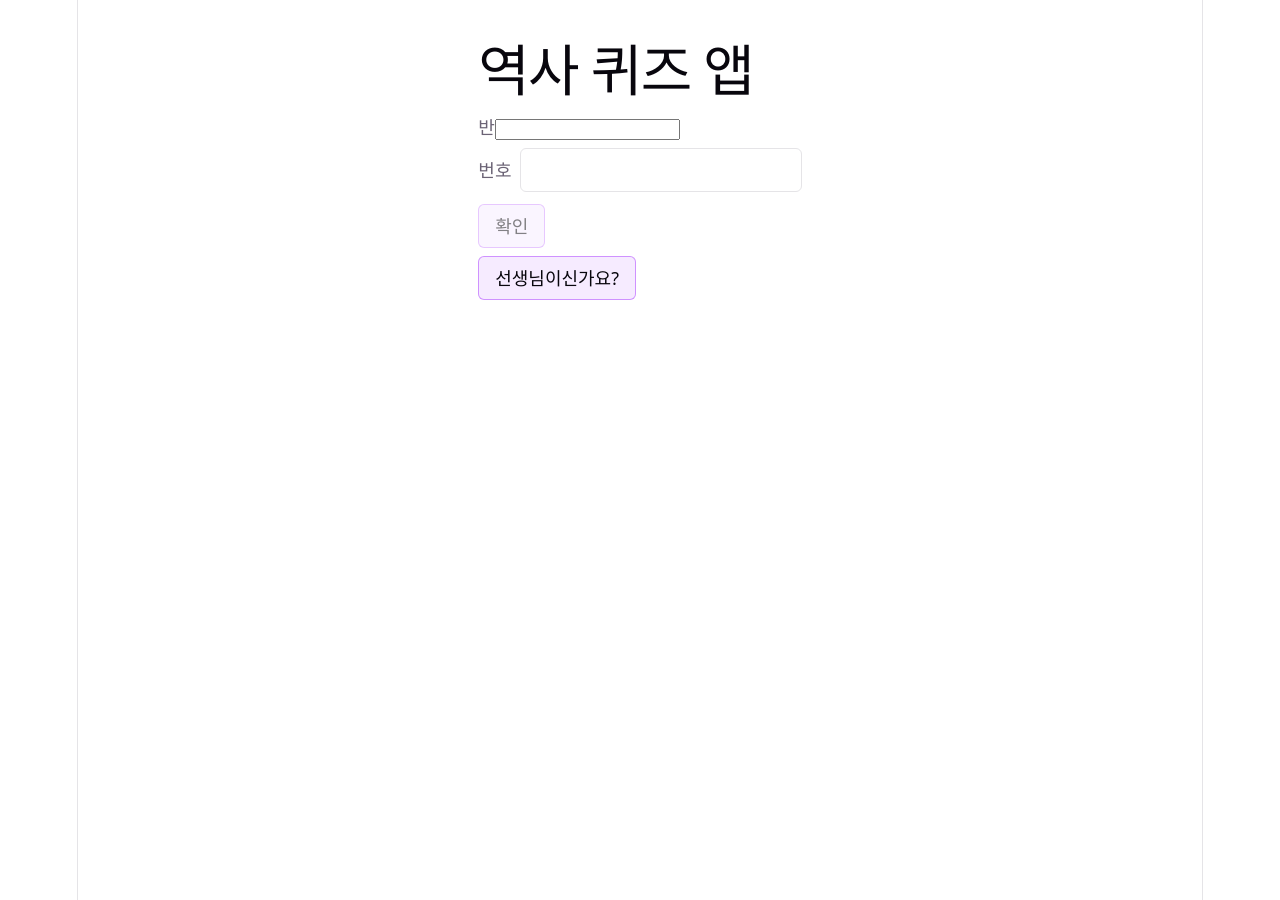
IntroScreen › keeps the confirm button disabled until class and number are filled in
This screenshot has width=1280, height=900.
Expected: the button "확인" is disabled, [478,204,545,248]
Type "3-2" into the field labelled "반".
click(588, 130); type("3-2")  # box [495,119,680,140]
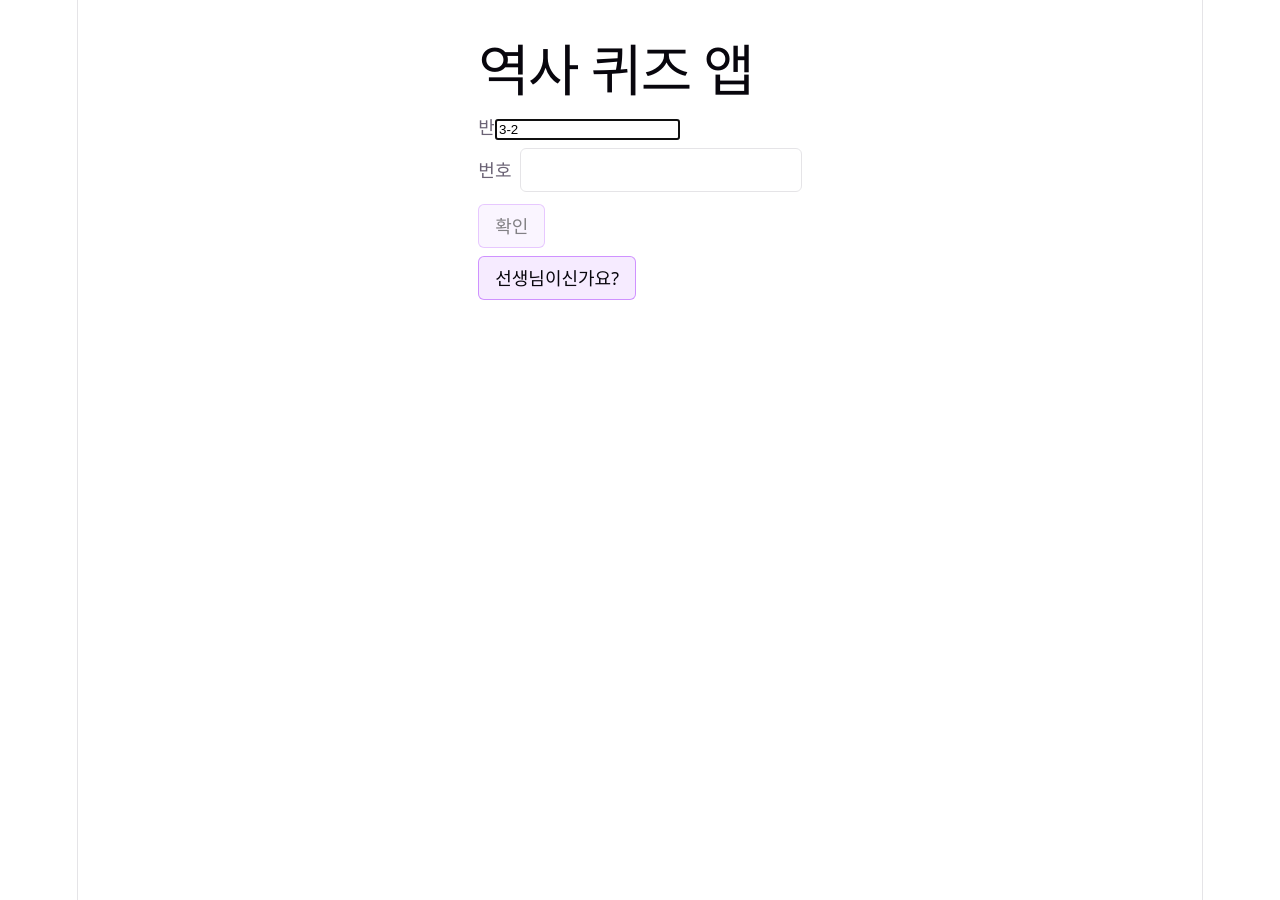
Type "7" into the number field labelled "번호".
click(661, 170); type("7")  # box [520,148,802,192]
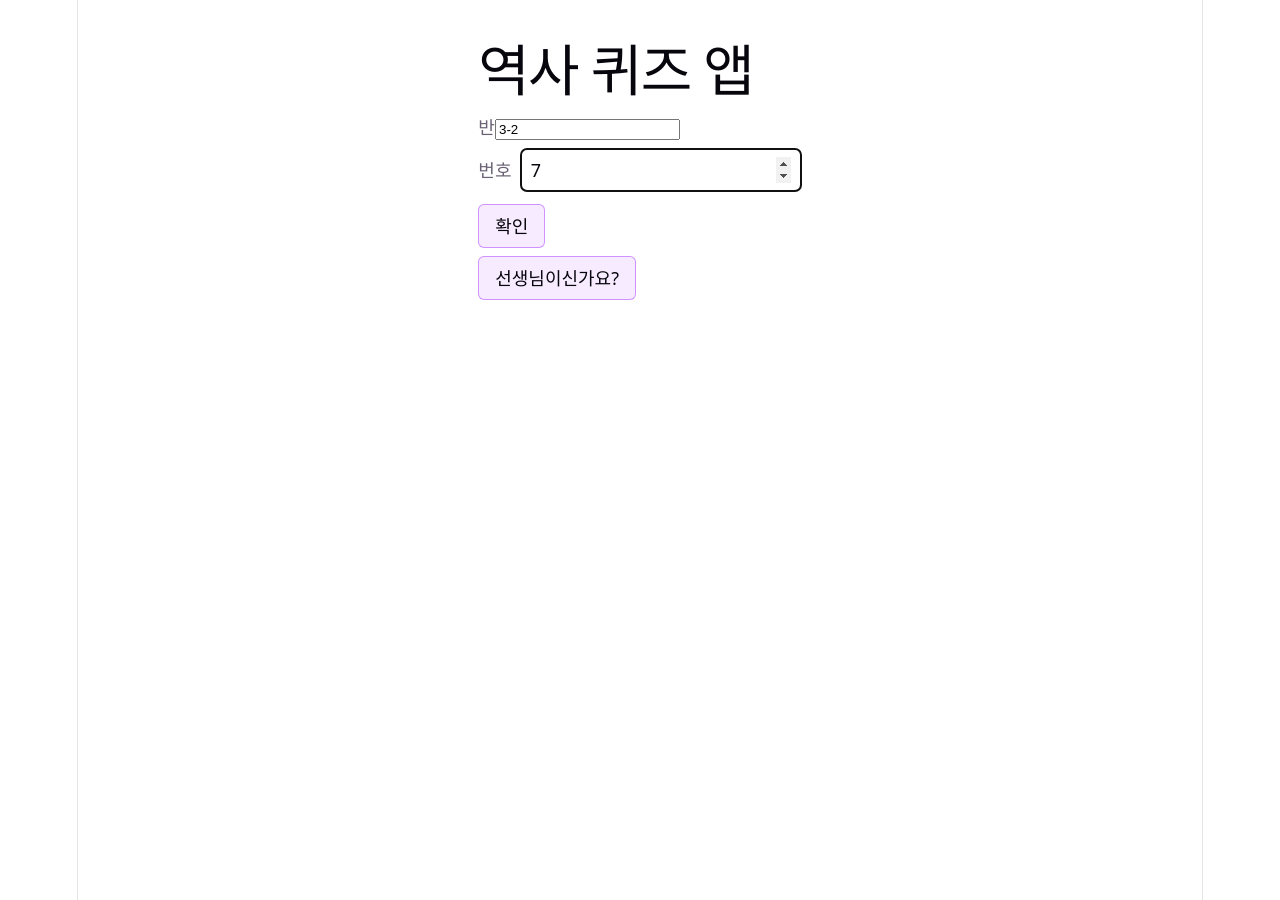
Expected: the button "확인" is enabled, [478,204,545,248]
